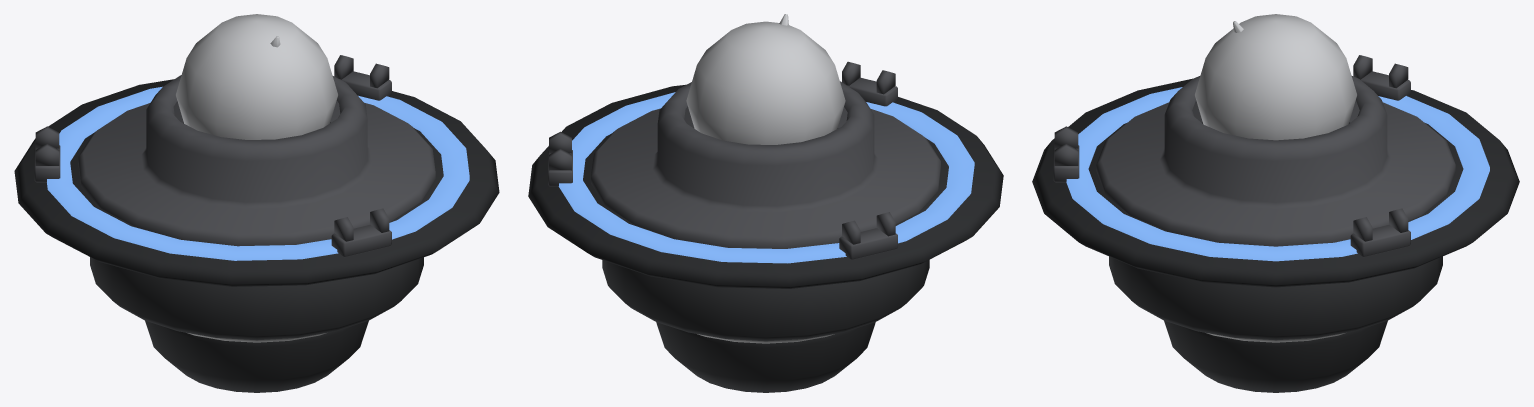
The model's file is octo-core.glb.
3 views of the same model, side by side, from view 1: azimuth 30°, elevation 25°; view 2: azimuth 150°, elevation 25°; view 3: azimuth 270°, elevation 25° (orthographic). The views are drawn at different scales.
Parts seen in each view (by area): view 1: Kit_Foot, Kit_Ferrule; view 2: Kit_Foot, Kit_Ferrule; view 3: Kit_Foot, Kit_Ferrule.
Part boxes in pixels (box(x1,y1,x2,y2)): Kit_Foot: box(14, 14, 499, 286); Kit_Ferrule: box(90, 257, 423, 392); Kit_Foot: box(528, 21, 1003, 288); Kit_Ferrule: box(602, 260, 929, 392); Kit_Foot: box(1032, 14, 1519, 287); Kit_Ferrule: box(1109, 256, 1442, 392).
Bounding box in the file's own units: 5.7 × 4.35 × 5.7.
